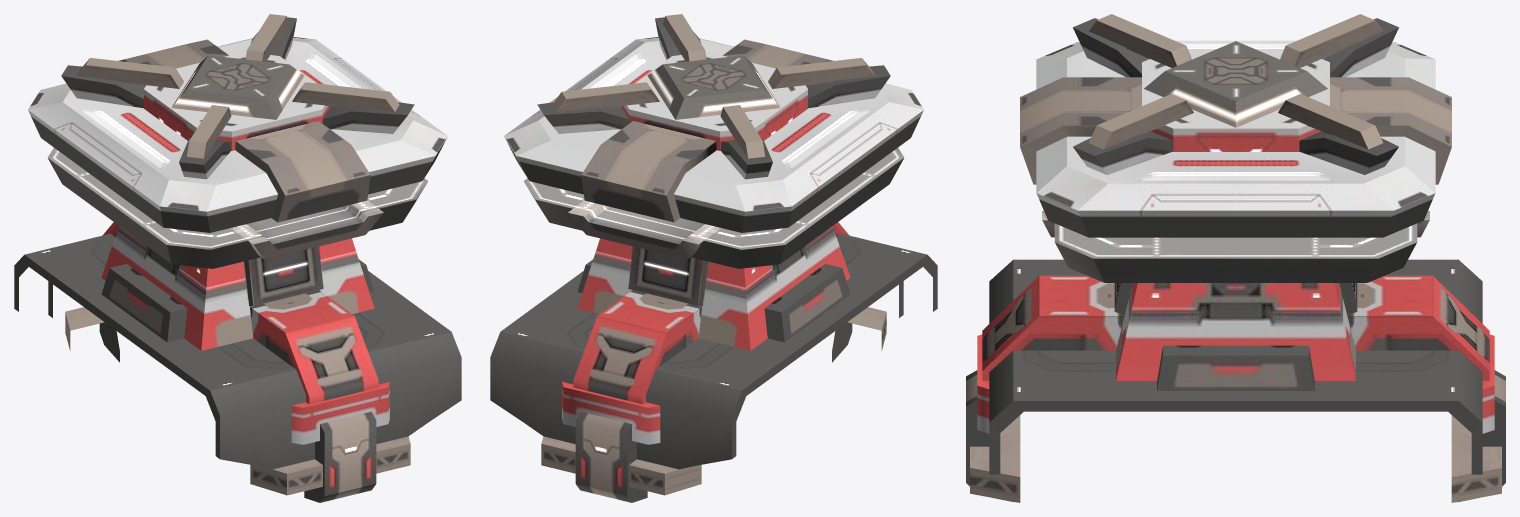
The picture shows the model from 3 angles, left to right: view 1: azimuth 30°, elevation 25°; view 2: azimuth 150°, elevation 25°; view 3: azimuth 270°, elevation 25°; orthographic projection. The views are drawn at different scales.
Visible parts, largest first — view 1: delivery-machine; view 2: delivery-machine; view 3: delivery-machine.
Boxes of the visible parts, box(x1,y1,x2,y2) form: delivery-machine: box(14, 14, 461, 502); delivery-machine: box(490, 14, 937, 502); delivery-machine: box(966, 14, 1505, 502).
Bounding box in the file's own units: 2.94 × 3.39 × 3.98.
1 material, 1 textured.
